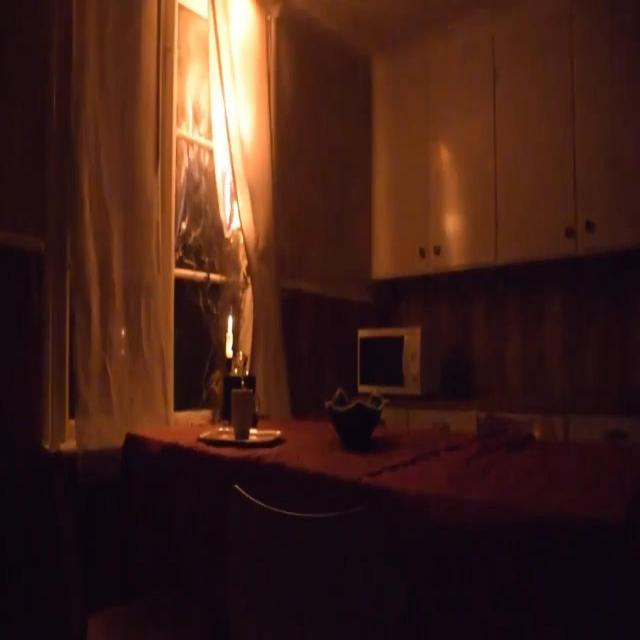smoke: (185, 1, 272, 243), (226, 307, 234, 333)
